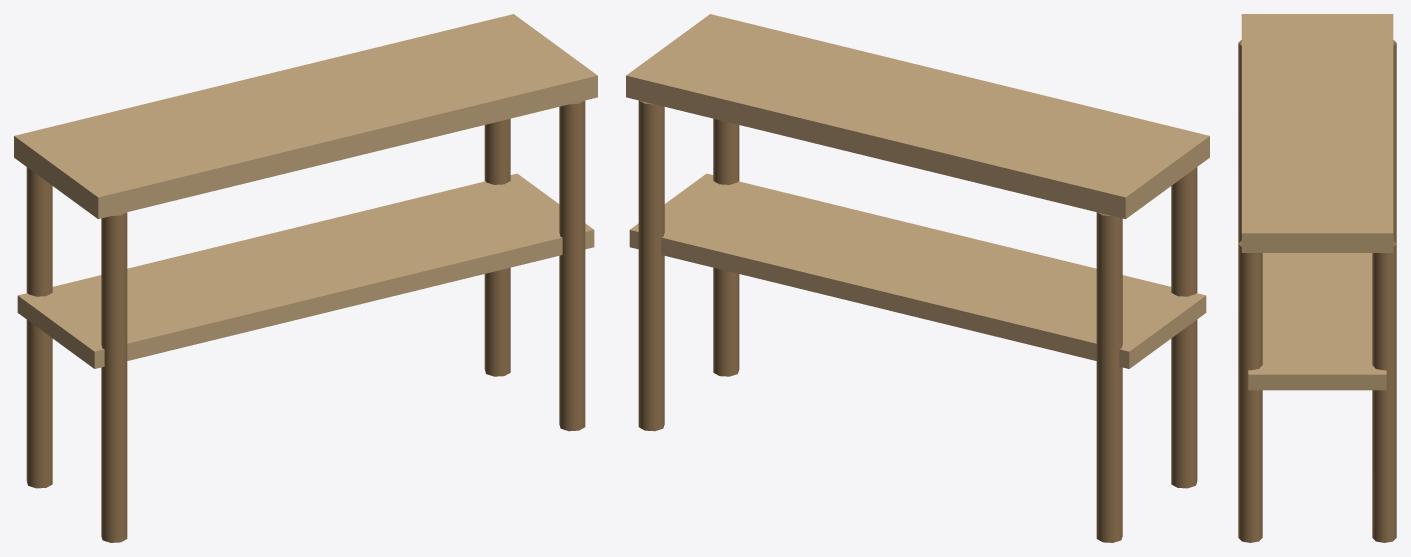
Rendered from console-table.glb.
3 views of the same model, side by side, from view 1: azimuth 30°, elevation 25°; view 2: azimuth 150°, elevation 25°; view 3: azimuth 270°, elevation 25° (orthographic). The views are drawn at different scales.
Bounding box in the file's own units: 1.2 × 0.8 × 0.366.
